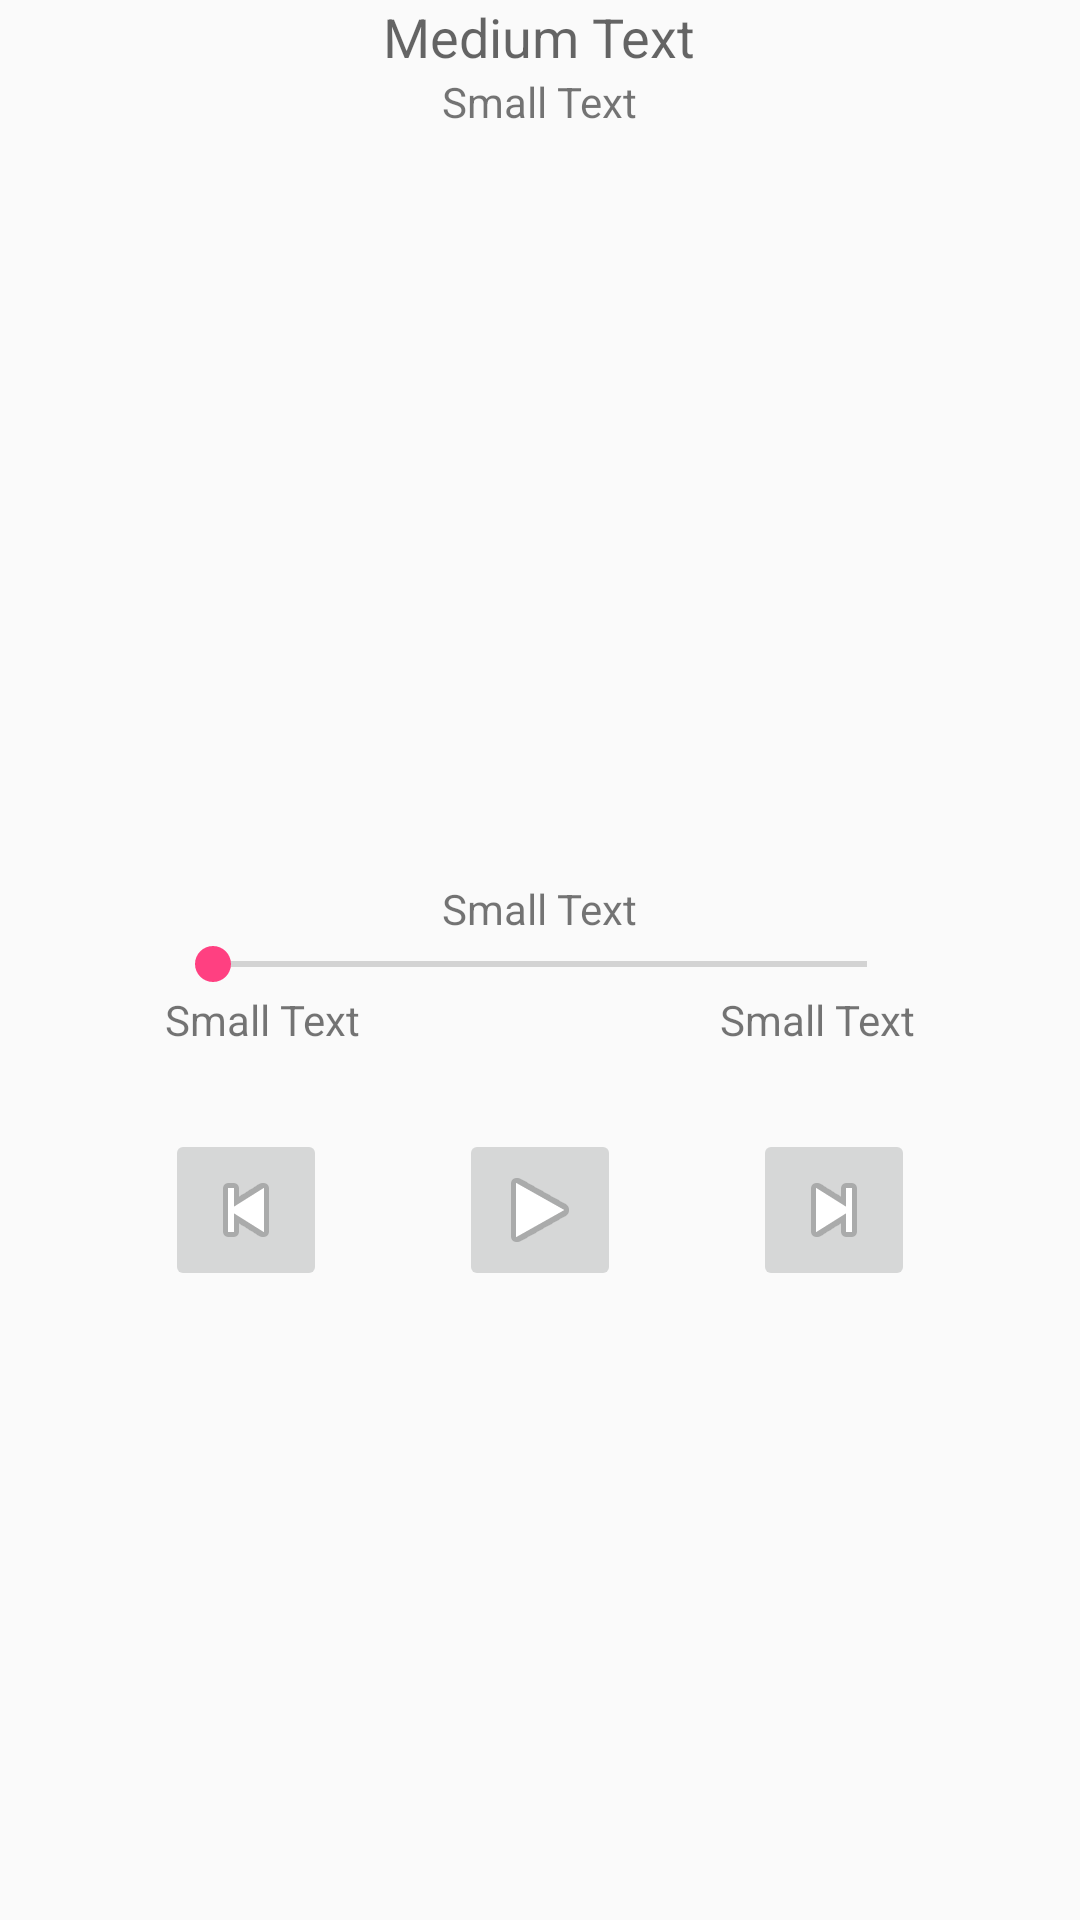

Icon click points for this 1080x1920 phone screenshot, format [x,y]:
next: [834,1210]
play: [540,1210]
previous: [246,1210]
